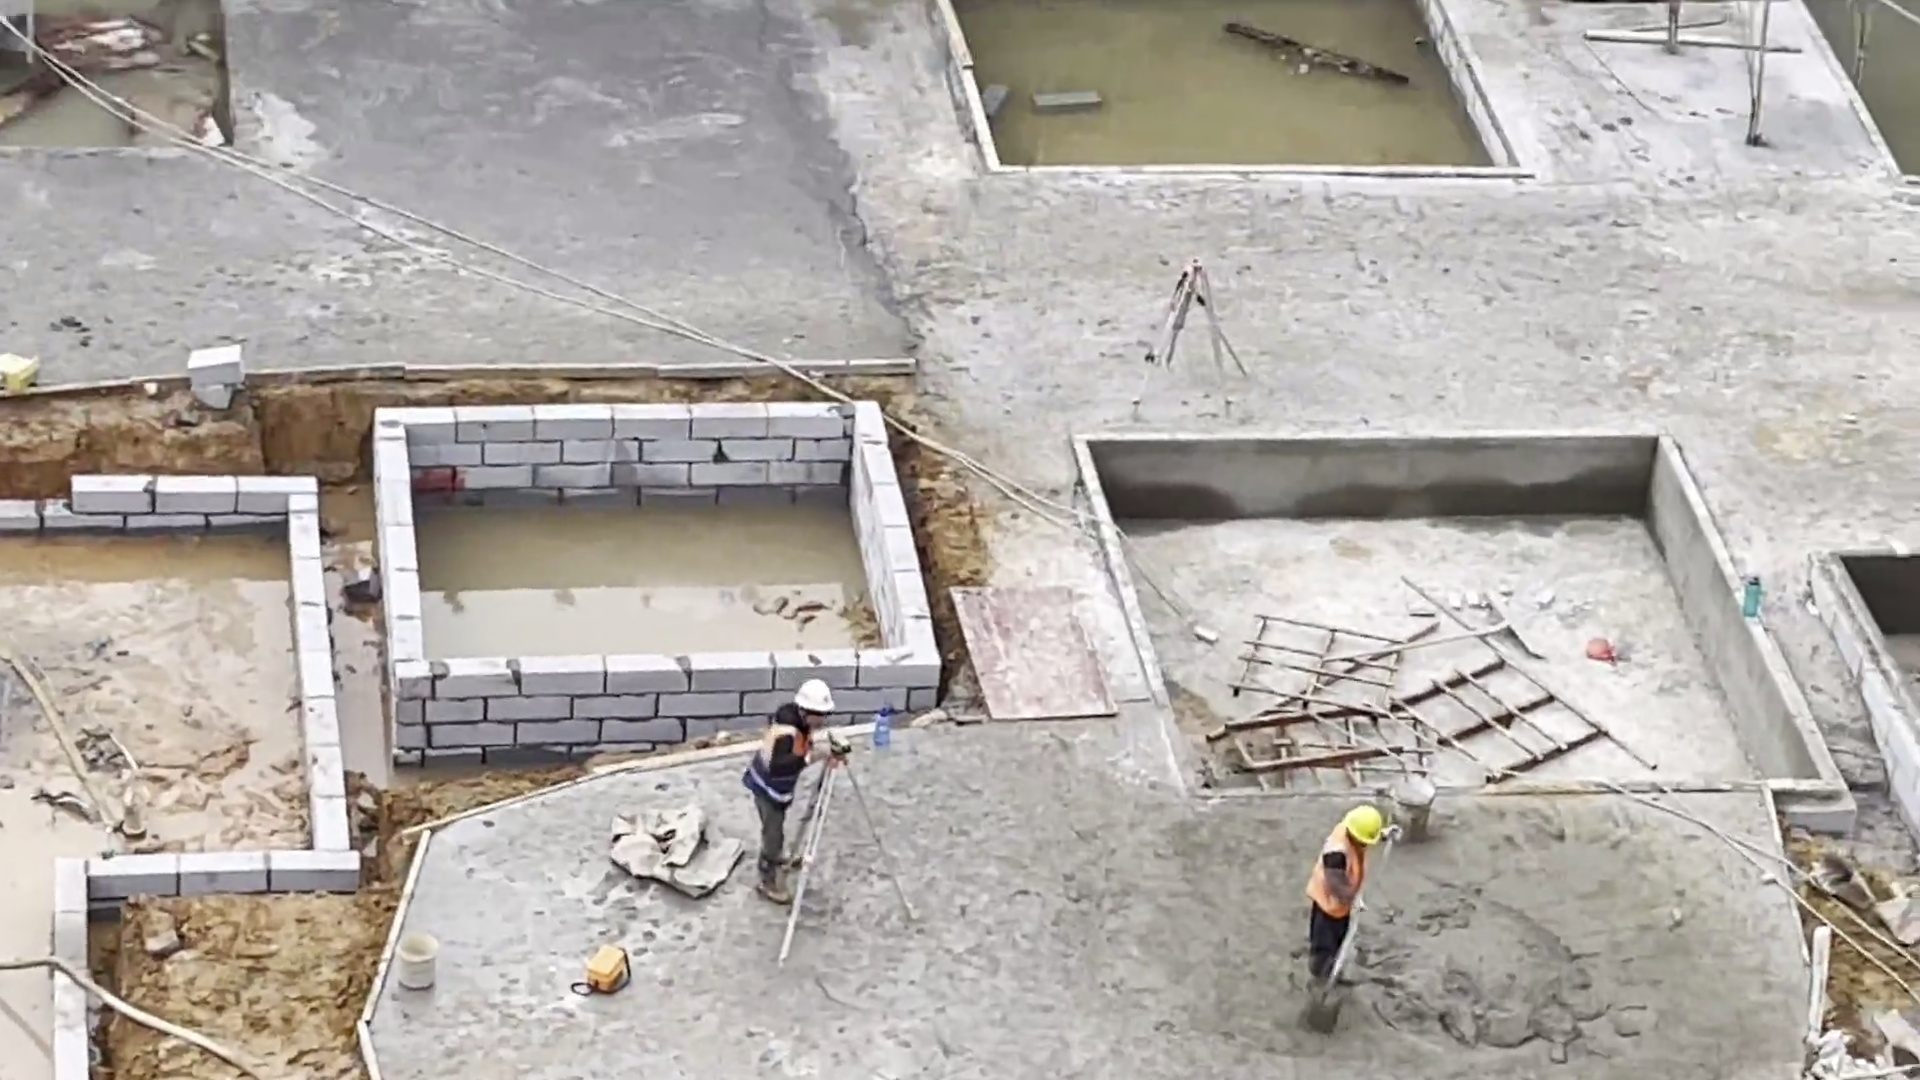helmet: (786, 669, 844, 719), (1344, 800, 1388, 850)
person: (745, 665, 835, 909), (1305, 805, 1382, 1008)
vest: (742, 723, 805, 814), (1313, 824, 1364, 926)
